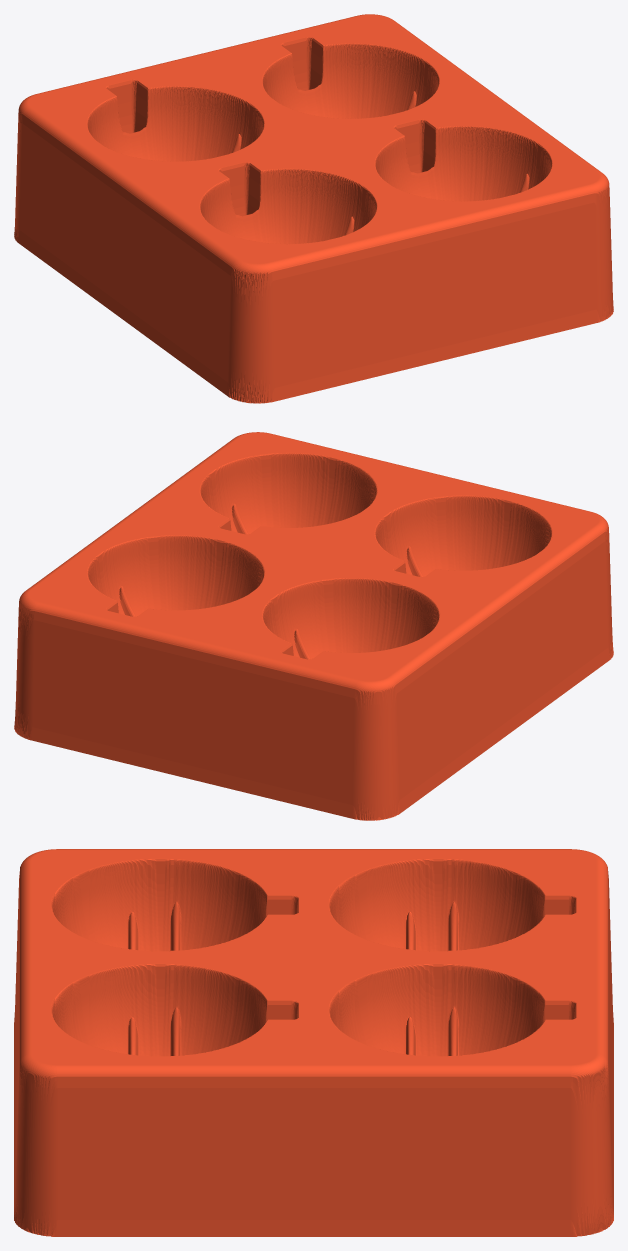
The model's file is mold.glb.
3 renders of one model, top to bottom at view 1: azimuth 30°, elevation 25°; view 2: azimuth 150°, elevation 25°; view 3: azimuth 270°, elevation 25°, orthographic. The views are drawn at different scales.
Visible parts, largest first — view 1: geometry_0; view 2: geometry_0; view 3: geometry_0.
Part boxes in pixels (<box>): geometry_0: <box>14,14,613,403</box>; geometry_0: <box>14,432,613,820</box>; geometry_0: <box>14,849,613,1236</box>.
Size of the model in its own units: 0.1129 by 0.0377 by 0.1248.
